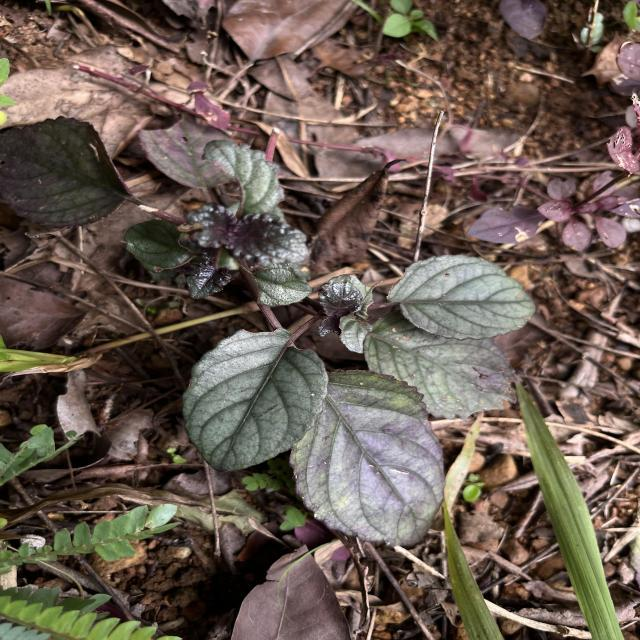Hemigraphis colorata: (286, 366, 450, 548), (176, 324, 332, 476), (361, 313, 524, 422), (386, 251, 538, 344)
